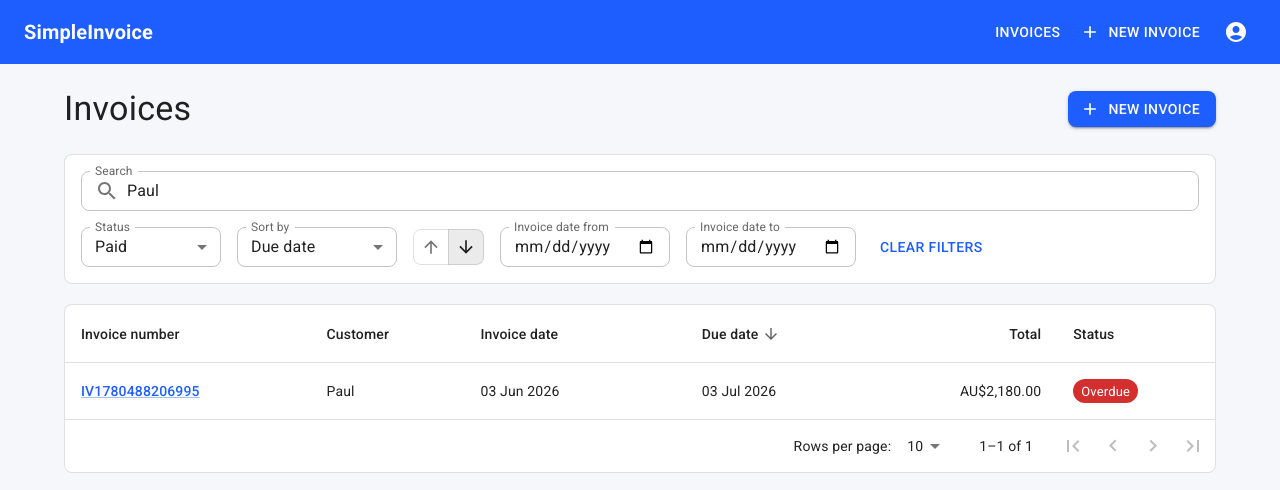
Test: InvoiceListPage › clears the filters but keeps the sort
Expected: the link "IV1780488206995" is shown, x1=81 y1=383 x2=200 y2=399
Click the button "Clear filters" at (931, 247), box x1=872 y1=229 x2=991 y2=265
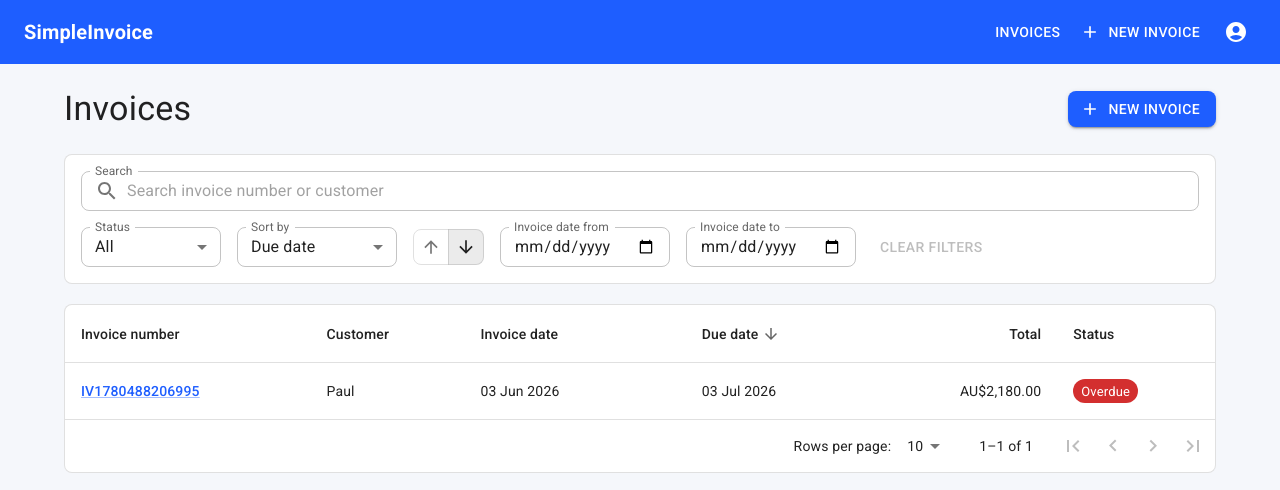
Now the search field labelled "Search" is empty, box x1=127 y1=171 x2=1199 y2=211
Now the button "Clear filters" is disabled, box x1=872 y1=229 x2=991 y2=265
